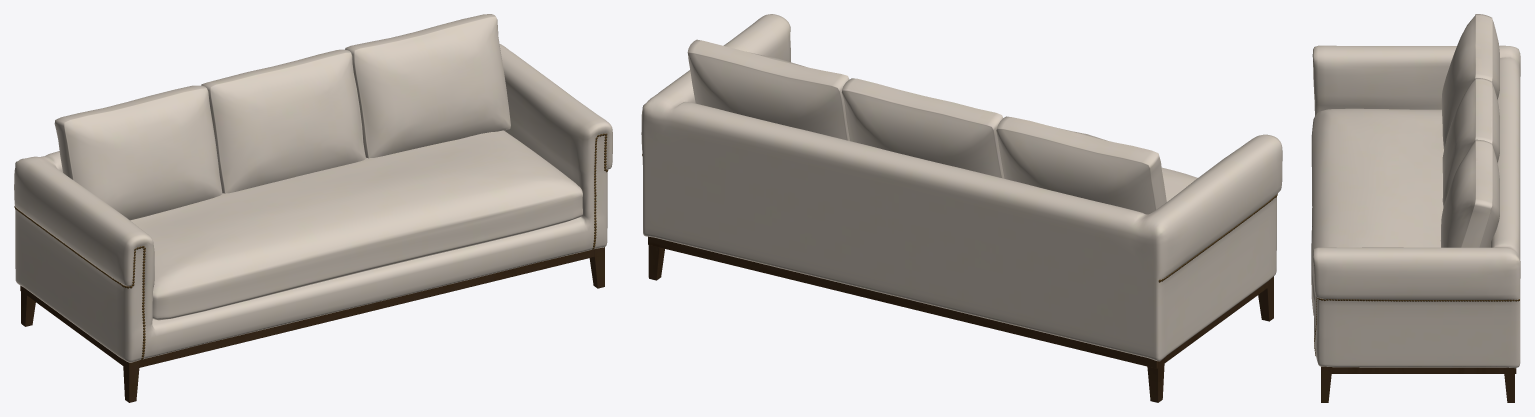
File: abo-B075X4QMX3.glb
3 renders of one model, left to right at view 1: azimuth 30°, elevation 25°; view 2: azimuth 150°, elevation 25°; view 3: azimuth 270°, elevation 25°, orthographic. The views are drawn at different scales.
Size of the model in its own units: 2.2 by 0.911 by 0.902.
Materials: 1 (1 with a texture image).
